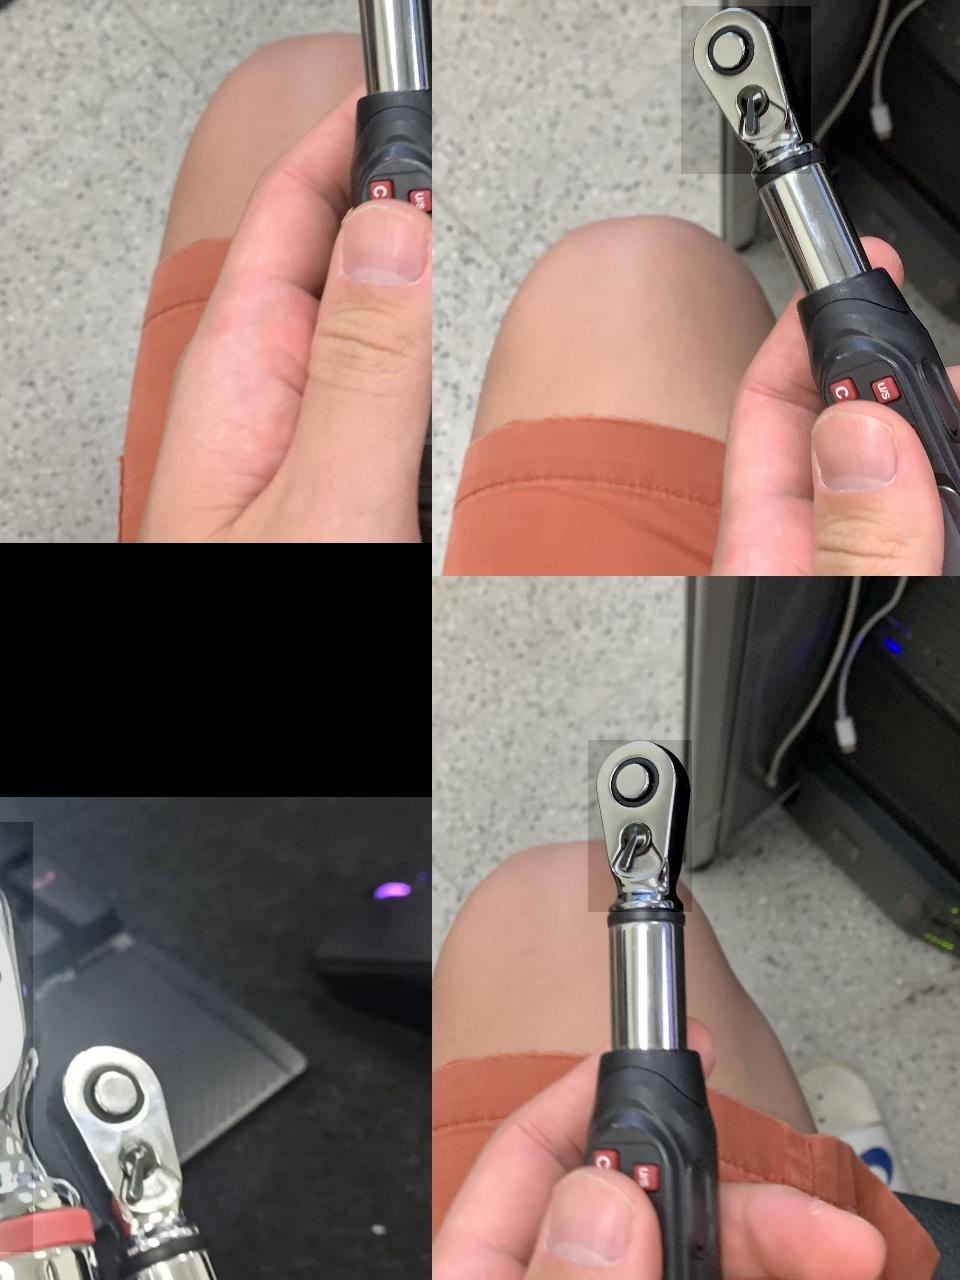Tool: (61, 1030, 202, 1270), (680, 6, 810, 174), (587, 740, 691, 912)
